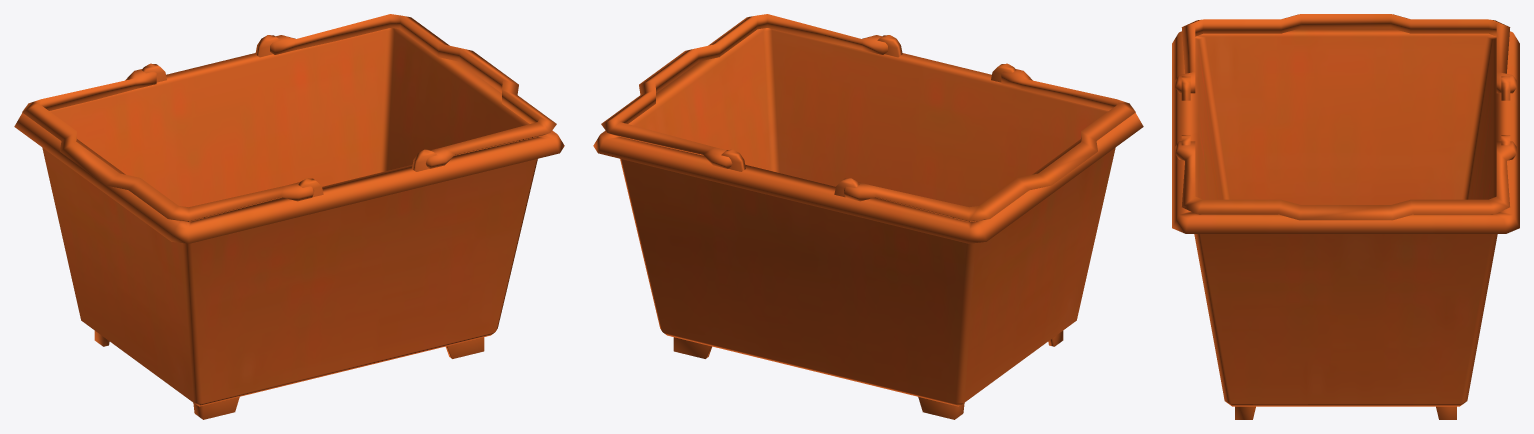
3 views of the same model, side by side, from view 1: azimuth 30°, elevation 25°; view 2: azimuth 150°, elevation 25°; view 3: azimuth 270°, elevation 25° (orthographic). The views are drawn at different scales.
Size of the model in its own units: 8.03 by 4.42 by 5.73.
Materials: 1 (1 with a texture image).
